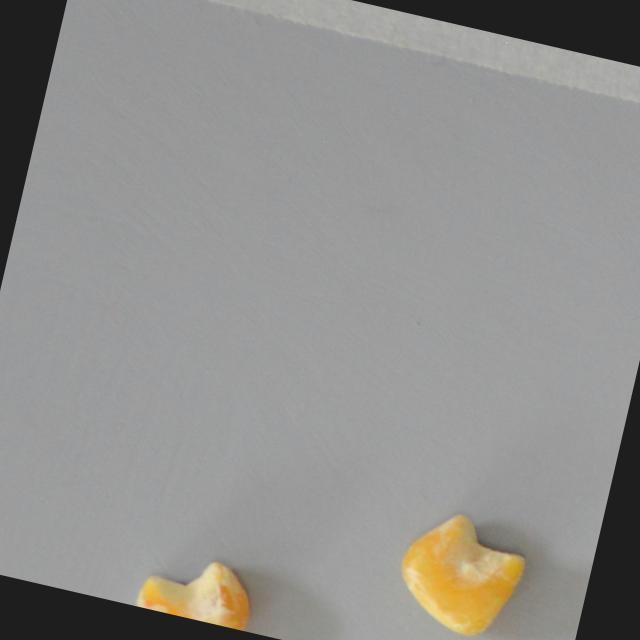pelicula: (389, 503, 533, 640), (134, 545, 260, 631)
